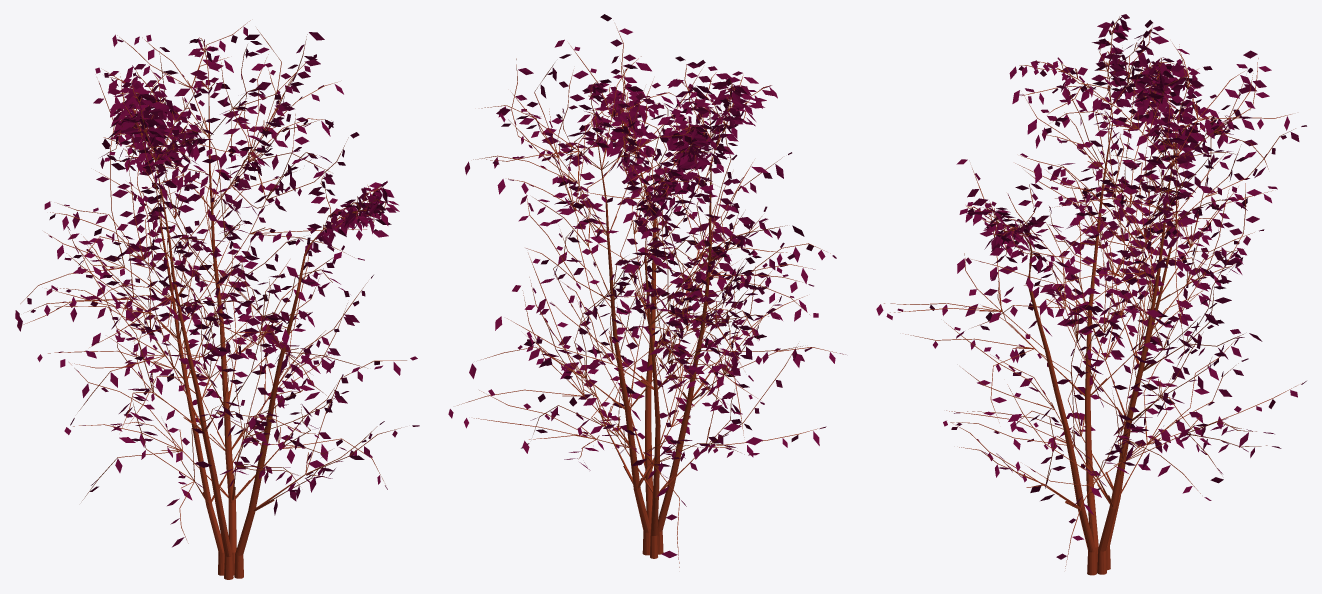
Rendered from runtime-sesuvium-edmonstonei.glb.
The picture shows the model from 3 angles, left to right: view 1: azimuth 30°, elevation 25°; view 2: azimuth 150°, elevation 25°; view 3: azimuth 270°, elevation 25°; orthographic projection.
Parts seen in each view (by area): view 1: Object_7, Object_8, Object_5, Object_4, Object_2, Object_3, Object_6; view 2: Object_7, Object_8, Object_5, Object_4, Object_3, Object_2, Object_6; view 3: Object_7, Object_8, Object_5, Object_4, Object_2, Object_3, Object_6.
Boxes of the visible parts, x1=… form: Object_7: x1=15, y1=27, x2=419, y2=547; Object_8: x1=60, y1=32, x2=387, y2=491; Object_5: x1=95, y1=29, x2=383, y2=575; Object_4: x1=19, y1=20, x2=332, y2=543; Object_2: x1=48, y1=68, x2=385, y2=578; Object_3: x1=20, y1=81, x2=406, y2=579; Object_6: x1=69, y1=279, x2=338, y2=500; Object_7: x1=493, y1=14, x2=843, y2=470; Object_8: x1=448, y1=54, x2=787, y2=557; Object_5: x1=457, y1=58, x2=771, y2=555; Object_4: x1=486, y1=26, x2=821, y2=492; Object_3: x1=562, y1=80, x2=744, y2=558; Object_2: x1=581, y1=60, x2=842, y2=527; Object_6: x1=635, y1=214, x2=744, y2=567; Object_7: x1=876, y1=14, x2=1306, y2=500; Object_8: x1=954, y1=64, x2=1306, y2=559; Object_5: x1=971, y1=67, x2=1297, y2=574; Object_4: x1=967, y1=43, x2=1295, y2=490; Object_2: x1=884, y1=26, x2=1206, y2=575; Object_3: x1=959, y1=16, x2=1243, y2=570; Object_6: x1=946, y1=262, x2=1237, y2=503.
Bounding box in the file's own units: 1.08 × 1.64 × 1.23.
